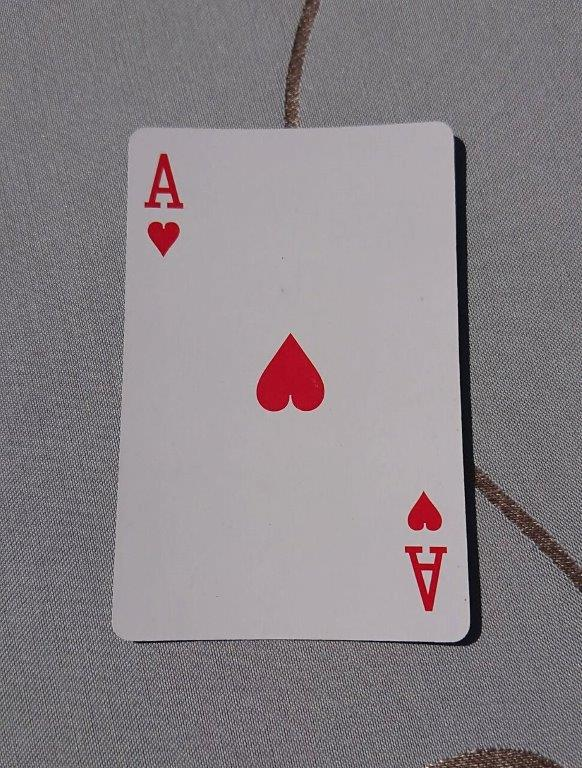AH: (110, 121, 473, 646)
